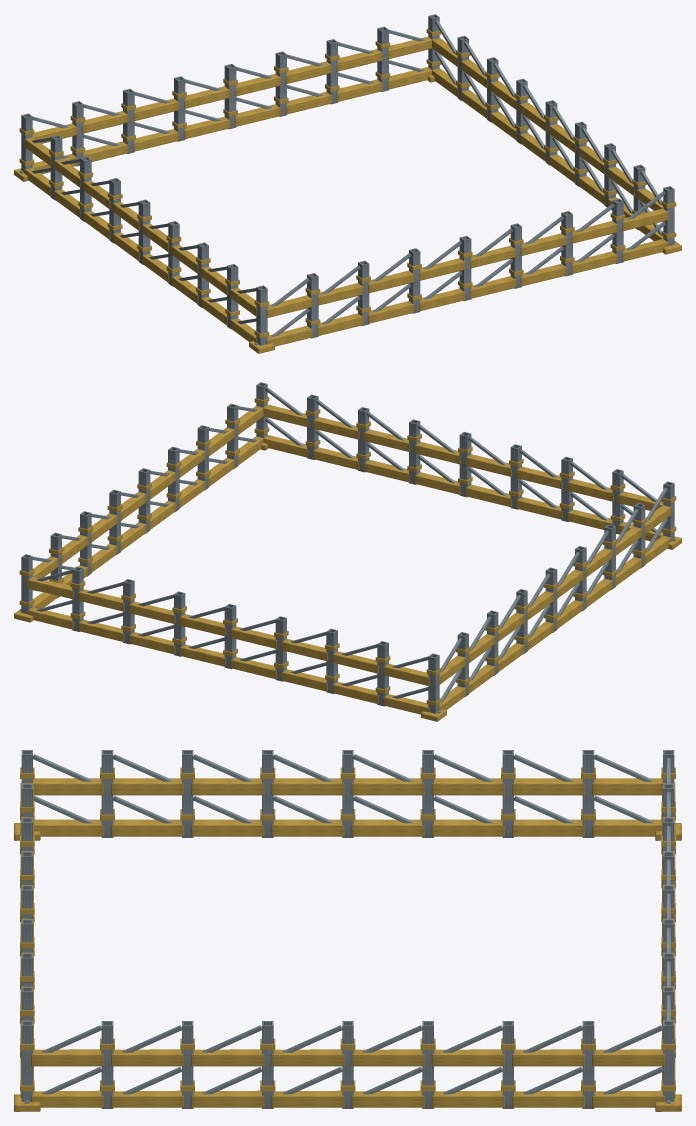
The picture shows the model from 3 angles, top to bottom: view 1: azimuth 30°, elevation 25°; view 2: azimuth 150°, elevation 25°; view 3: azimuth 270°, elevation 25°; orthographic projection. The views are drawn at different scales.
Visible parts, largest first — view 1: Tier 0 bay 2-1-6 service deck, Tier 0 bay 2-0-2 service deck, Tier 0 bay 2-0-4 service deck, Tier 0 bay 2-1-4 service deck, Tier 0 bay 2-1-5 service deck, Tier 0 bay 2-0-1 service deck, Tier 0 bay 2-0-3 service deck, Tier 0 bay 2-0-5 service deck, Tier 0 bay 2-1-1 service deck, Tier 0 bay 2-1-2 service deck, Tier 0 bay 2-1-3 service deck, Tier 0 bay 0-0-1 service deck (+36 smaller); view 2: Tier 0 bay 2-0-2 service deck, Tier 0 bay 0-0-4 service deck, Tier 0 bay 0-1-1 service deck, Tier 0 bay 2-0-5 service deck, Tier 0 bay 2-0-6 service deck, Tier 0 bay 2-1-1 service deck, Tier 0 bay 2-1-4 service deck, Tier 0 bay 2-1-6 service deck, Tier 0 bay 0-0-3 service deck, Tier 0 bay 2-1-0 service deck, Tier 0 bay 2-1-5 service deck, Tier 0 bay 0-0-6 service deck (+34 smaller); view 3: Tier 0 bay 1-1-3 service deck, Tier 0 bay 1-1-4 service deck, Tier 0 bay 3-1-4 service deck, Tier 0 bay 3-1-3 service deck, Tier 0 bay 1-1-2 service deck, Tier 0 bay 3-1-2 service deck, Tier 0 bay 1-1-5 service deck, Tier 0 bay 3-1-5 service deck, Tier 0 bay 3-0-3 service deck, Tier 0 bay 3-0-4 service deck, Tier 0 bay 1-1-1 service deck, Tier 0 bay 1-1-7 service deck (+36 smaller).
Boxes of the visible parts, left/top/right/bottom form: Tier 0 bay 2-1-6 service deck: left=82, top=111, right=128, bottom=133; Tier 0 bay 2-0-2 service deck: left=285, top=91, right=331, bottom=114; Tier 0 bay 2-0-4 service deck: left=184, top=116, right=230, bottom=139; Tier 0 bay 2-1-4 service deck: left=184, top=86, right=230, bottom=108; Tier 0 bay 2-1-5 service deck: left=133, top=98, right=179, bottom=121; Tier 0 bay 2-0-1 service deck: left=336, top=79, right=382, bottom=101; Tier 0 bay 2-0-3 service deck: left=235, top=104, right=281, bottom=126; Tier 0 bay 2-0-5 service deck: left=133, top=129, right=179, bottom=151; Tier 0 bay 2-1-1 service deck: left=336, top=49, right=382, bottom=71; Tier 0 bay 2-1-2 service deck: left=285, top=61, right=331, bottom=83; Tier 0 bay 2-1-3 service deck: left=235, top=74, right=281, bottom=96; Tier 0 bay 0-0-1 service deck: left=317, top=313, right=363, bottom=335; Tier 0 bay 2-0-2 service deck: left=129, top=632, right=175, bottom=654; Tier 0 bay 0-0-4 service deck: left=414, top=472, right=460, bottom=494; Tier 0 bay 0-1-1 service deck: left=567, top=479, right=613, bottom=501; Tier 0 bay 2-0-5 service deck: left=281, top=669, right=327, bottom=691; Tier 0 bay 2-0-6 service deck: left=332, top=681, right=378, bottom=703; Tier 0 bay 2-1-1 service deck: left=78, top=589, right=124, bottom=611; Tier 0 bay 2-1-4 service deck: left=230, top=626, right=276, bottom=648; Tier 0 bay 2-1-6 service deck: left=332, top=651, right=378, bottom=673; Tier 0 bay 0-0-3 service deck: left=465, top=484, right=511, bottom=507; Tier 0 bay 2-1-0 service deck: left=27, top=577, right=73, bottom=599; Tier 0 bay 2-1-5 service deck: left=281, top=639, right=327, bottom=661; Tier 0 bay 0-0-6 service deck: left=313, top=447, right=359, bottom=469; Tier 0 bay 1-1-3 service deck: left=271, top=1049, right=344, bottom=1066; Tier 0 bay 1-1-4 service deck: left=351, top=1049, right=424, bottom=1066; Tier 0 bay 3-1-4 service deck: left=271, top=778, right=344, bottom=795; Tier 0 bay 3-1-3 service deck: left=351, top=778, right=424, bottom=795; Tier 0 bay 1-1-2 service deck: left=191, top=1049, right=264, bottom=1066; Tier 0 bay 3-1-2 service deck: left=431, top=778, right=504, bottom=795; Tier 0 bay 1-1-5 service deck: left=431, top=1049, right=504, bottom=1066; Tier 0 bay 3-1-5 service deck: left=191, top=778, right=264, bottom=795; Tier 0 bay 3-0-3 service deck: left=351, top=819, right=424, bottom=836; Tier 0 bay 3-0-4 service deck: left=271, top=819, right=344, bottom=836; Tier 0 bay 1-1-1 service deck: left=111, top=1049, right=183, bottom=1066; Tier 0 bay 1-1-7 service deck: left=592, top=1049, right=664, bottom=1066.
Size of the model in its own units: 3.75 by 0.5143 by 3.75.
2 materials, 2 textured.
